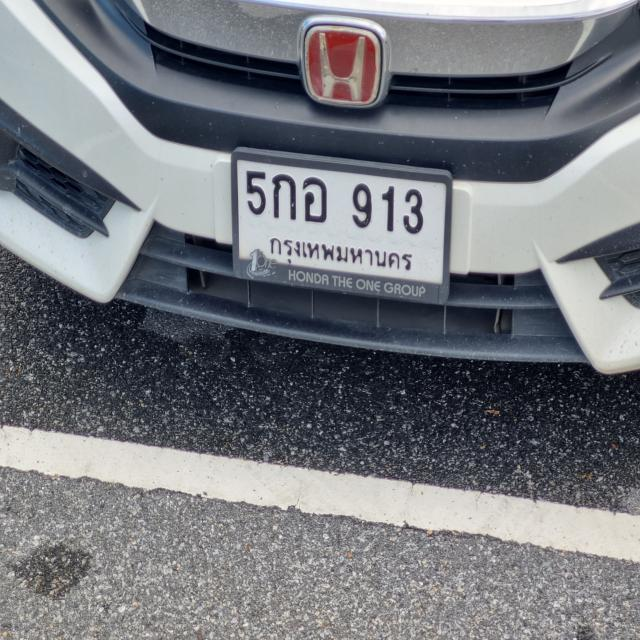license_plate: (232, 143, 453, 307)
